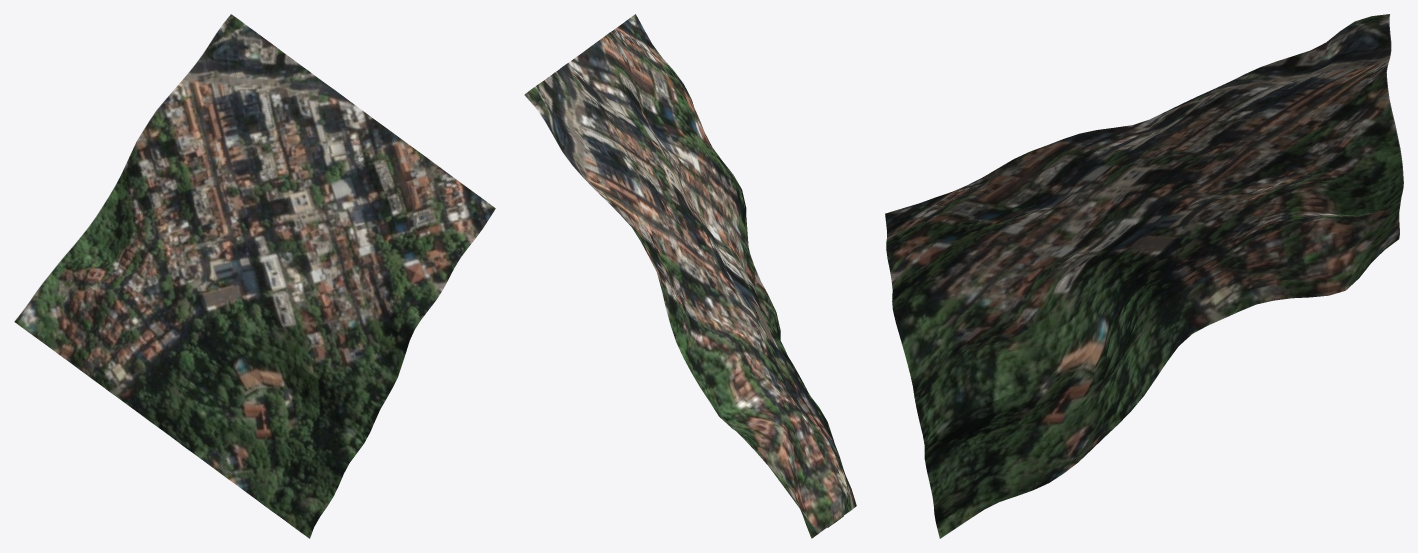
3 views of the same model, side by side, from view 1: azimuth 30°, elevation 25°; view 2: azimuth 150°, elevation 25°; view 3: azimuth 270°, elevation 25° (orthographic). The views are drawn at different scales.
Size of the model in its own units: 530 by 651 by 530.
1 material, 1 textured.
